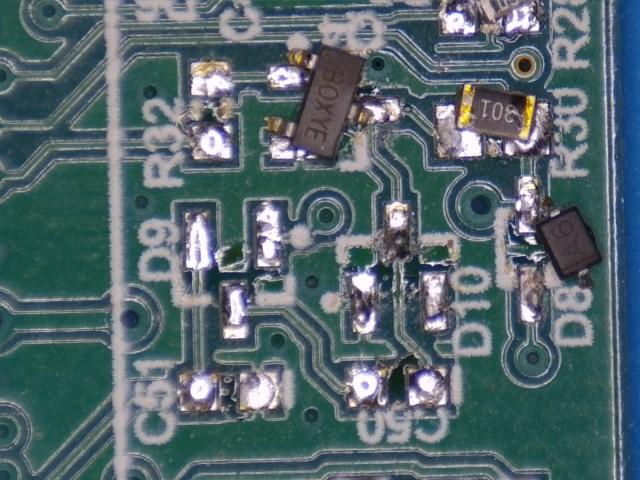pcb_defect: (265, 45, 401, 161), (516, 176, 604, 290), (433, 82, 552, 157), (440, 0, 541, 36)
